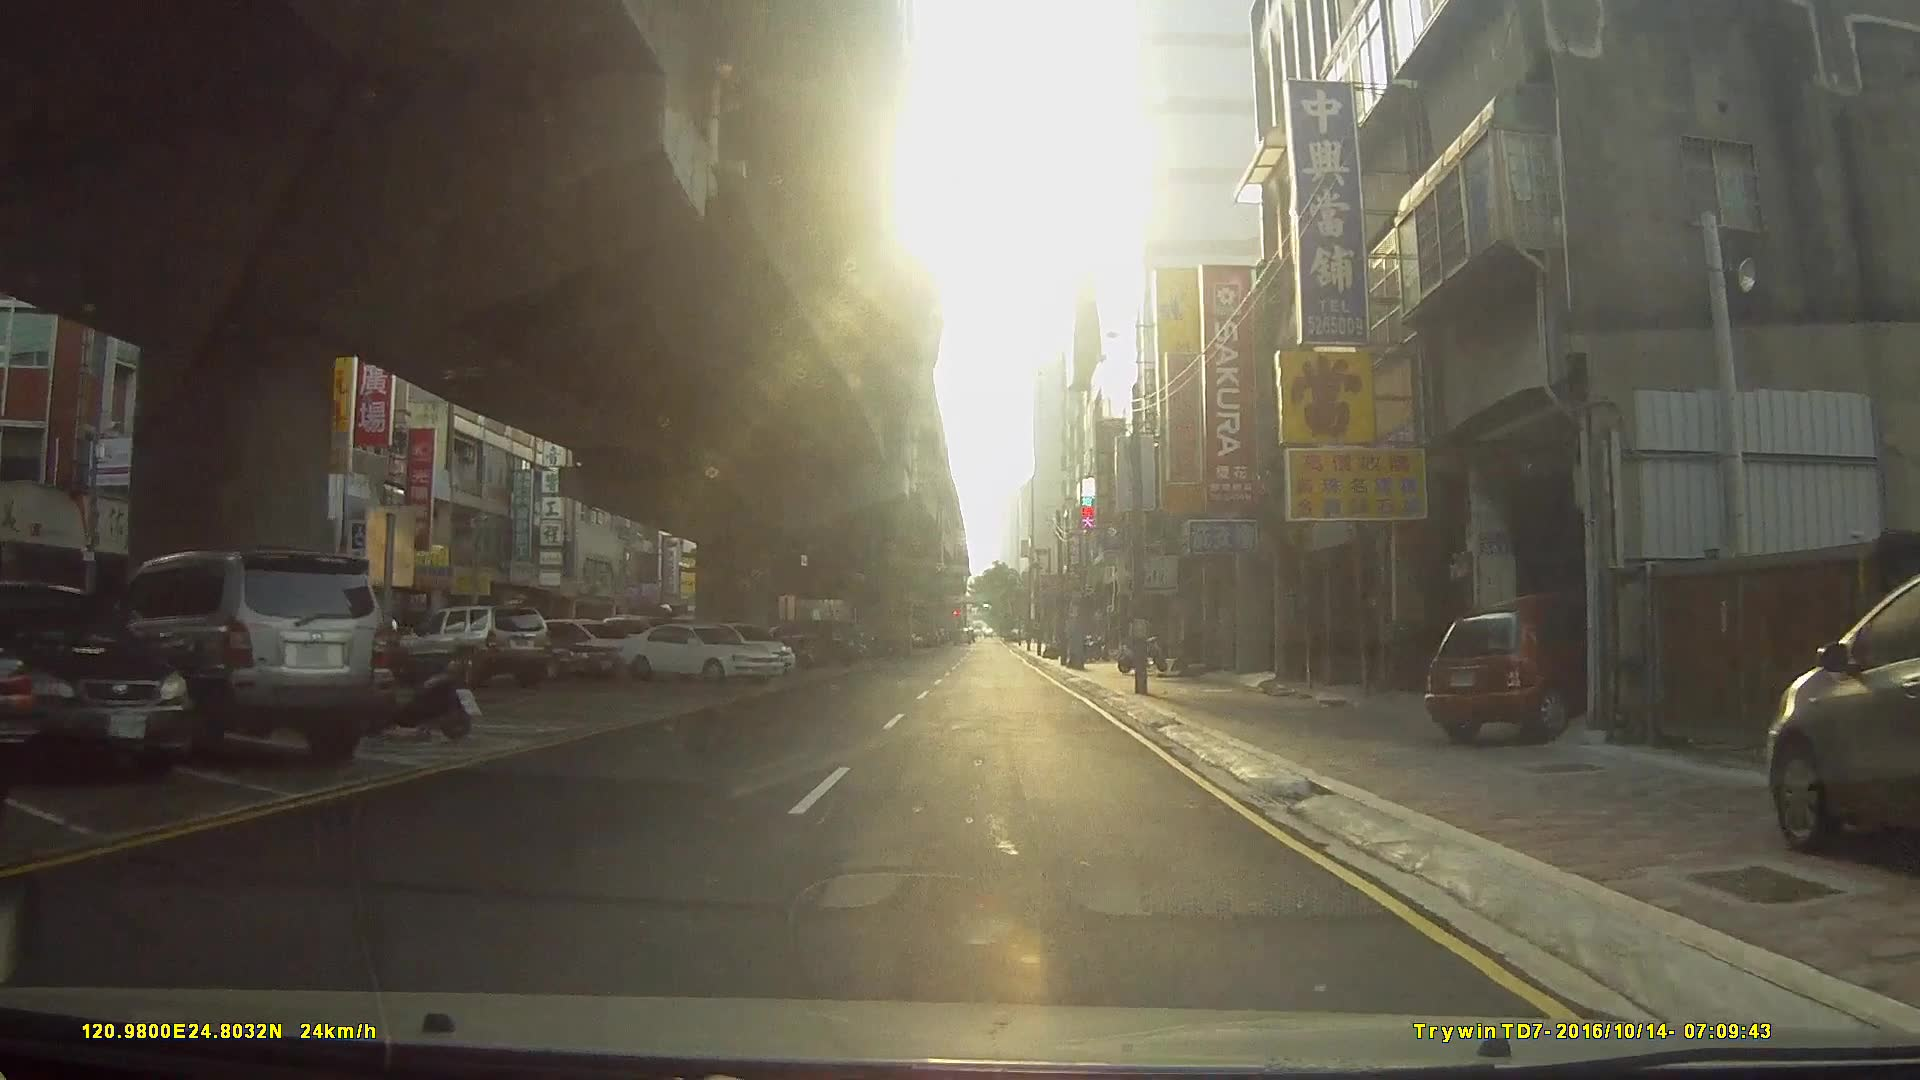vehicle: (76, 550, 393, 762), (1764, 574, 1920, 855), (0, 578, 195, 778), (1425, 589, 1625, 744), (394, 603, 550, 684), (448, 618, 616, 684), (617, 622, 786, 683)
